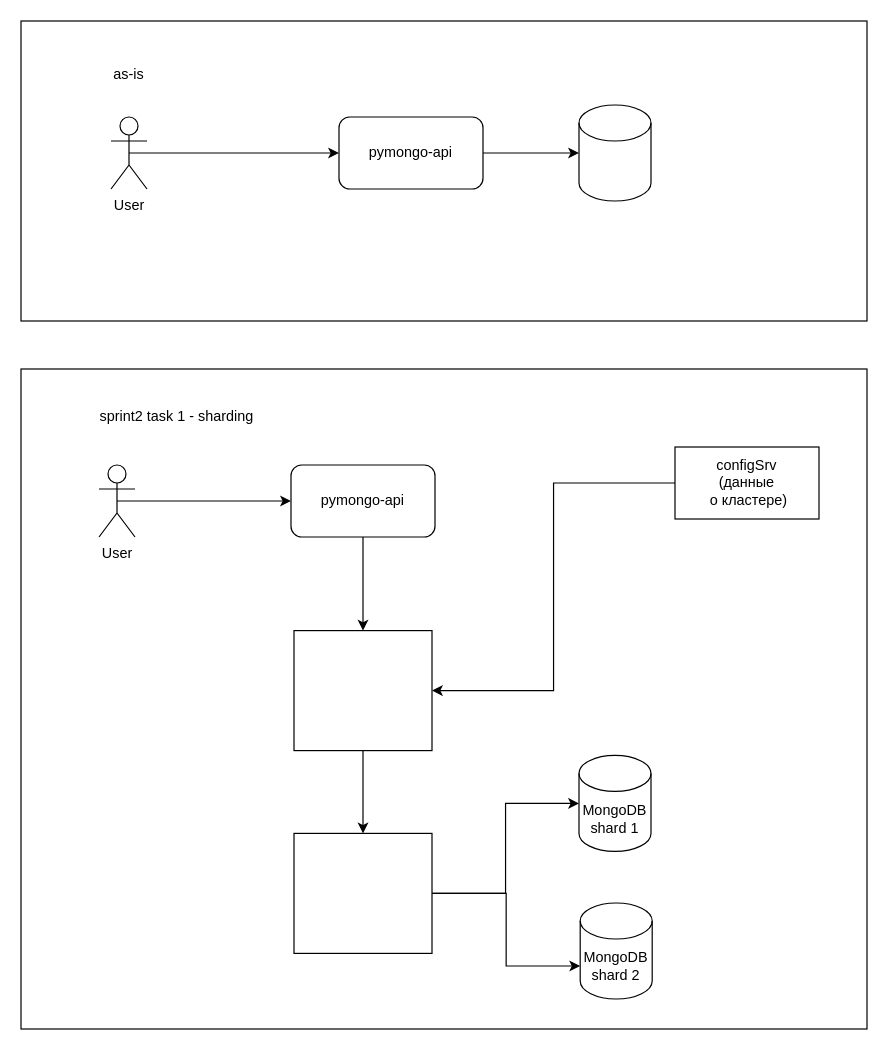
Some shapes in this 888 by 1050 pixel diagram are drawn without their labels. Each missing label, with the box of its shape:
mongo driver: (293, 629, 432, 751)
mongo router: (293, 832, 432, 953)
MongoDB: (578, 104, 651, 201)
